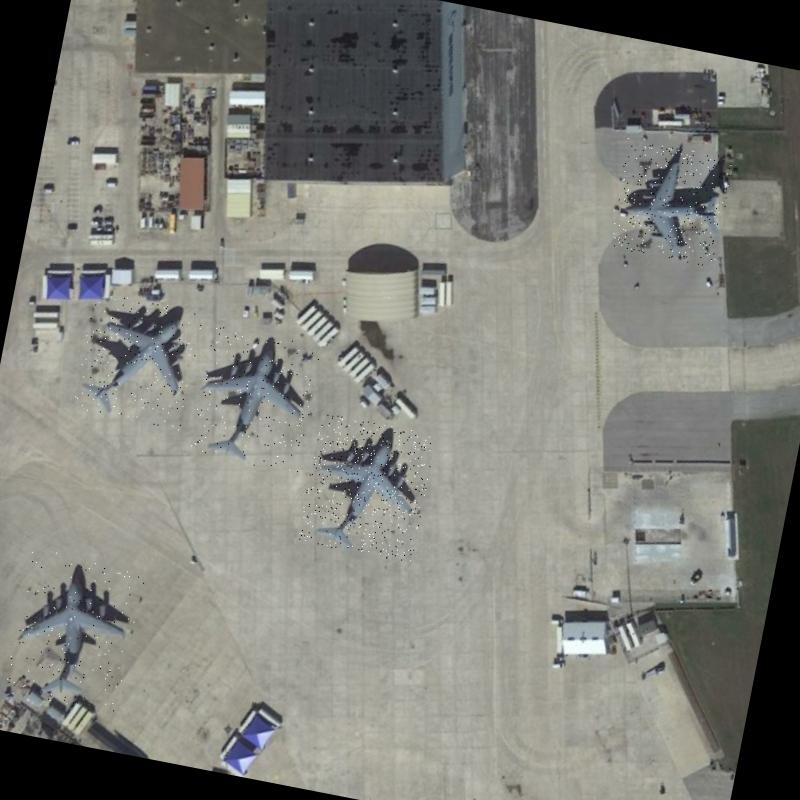A3: (3, 547, 146, 714), (296, 412, 436, 563), (188, 325, 322, 474), (71, 288, 204, 430), (606, 138, 734, 268)
